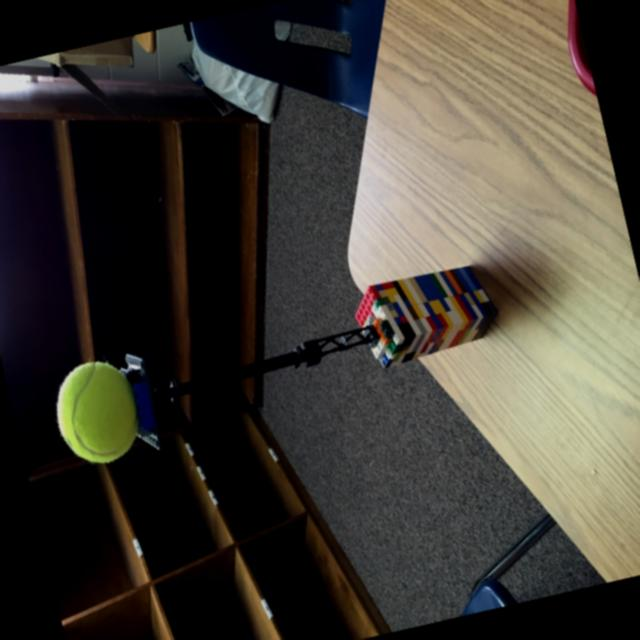Tennis ball: (46, 352, 150, 474)
